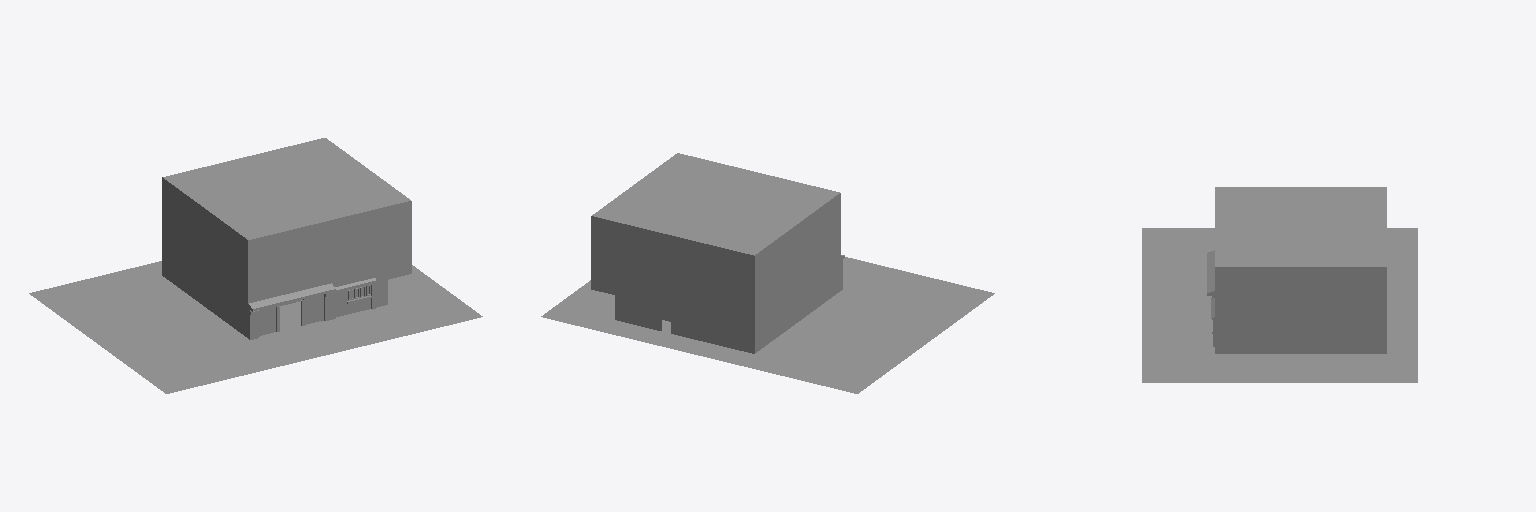
File: building.obj
The picture shows the model from 3 angles: view 1: azimuth 30°, elevation 25°; view 2: azimuth 150°, elevation 25°; view 3: azimuth 270°, elevation 25°; orthographic projection.
Visible parts, largest first — view 1: building_Cube, ground_Cube.001; view 2: building_Cube, ground_Cube.001; view 3: building_Cube, ground_Cube.001.
Part boxes in pixels (bbox=[...]): building_Cube: bbox=[162, 138, 411, 339]; ground_Cube.001: bbox=[29, 261, 482, 393]; building_Cube: bbox=[591, 153, 844, 353]; ground_Cube.001: bbox=[541, 257, 994, 393]; building_Cube: bbox=[1207, 187, 1386, 353]; ground_Cube.001: bbox=[1142, 228, 1417, 382].
Size of the model in its own units: 30.53 by 9.07 by 23.